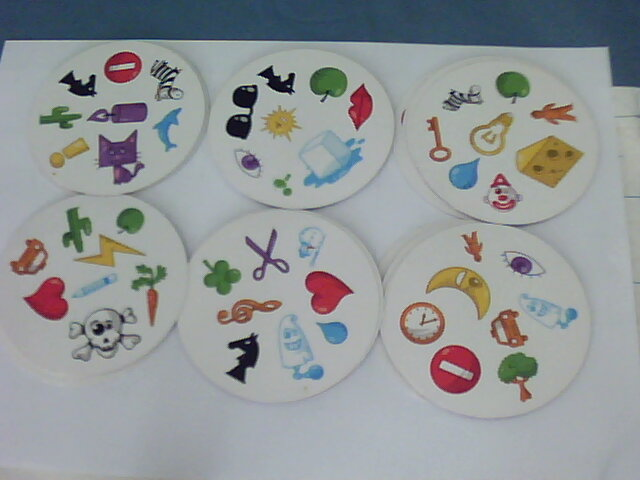arbre: (491, 347, 543, 406)
bonhomme: (529, 101, 579, 130), (458, 228, 491, 266)
bonhomme_neige: (296, 222, 328, 266)
bouche: (348, 80, 375, 133)
bougie: (84, 97, 150, 128)
cactus: (61, 203, 95, 255), (37, 103, 84, 132)
carotte: (130, 262, 172, 331)
chat: (93, 132, 149, 188)
cheval: (219, 331, 266, 390), (258, 59, 297, 97), (56, 68, 98, 99)
ciseau: (239, 226, 295, 284)
cle: (419, 113, 453, 163)
clown: (482, 171, 527, 213)
coeur: (303, 265, 359, 316), (19, 276, 70, 321)
crayon: (70, 269, 124, 304)
dauphin: (149, 105, 191, 153)
eclair: (72, 228, 150, 270)
fantome: (275, 308, 327, 383), (512, 289, 583, 335)
fromag: (514, 132, 587, 193)
glacon: (297, 128, 368, 191)
goutte: (449, 153, 481, 192), (314, 319, 349, 345)
horloge: (399, 300, 449, 348)
lune: (423, 262, 495, 324)
lunette: (224, 80, 260, 141)
note: (213, 295, 284, 327)
oeuil: (497, 243, 548, 285), (232, 145, 266, 184)
point_exclamation: (44, 134, 92, 172)
pomme: (309, 64, 349, 105), (493, 67, 532, 106), (113, 204, 148, 238)
sens_interdit: (429, 341, 485, 397), (102, 48, 143, 88)
soleil: (258, 103, 302, 141)
tache: (270, 171, 295, 198)
tete_mort: (68, 305, 144, 365)
trefle: (200, 257, 243, 297)
voiture: (7, 234, 51, 279), (488, 307, 530, 351)
zebre: (436, 76, 486, 116), (147, 56, 186, 105)
